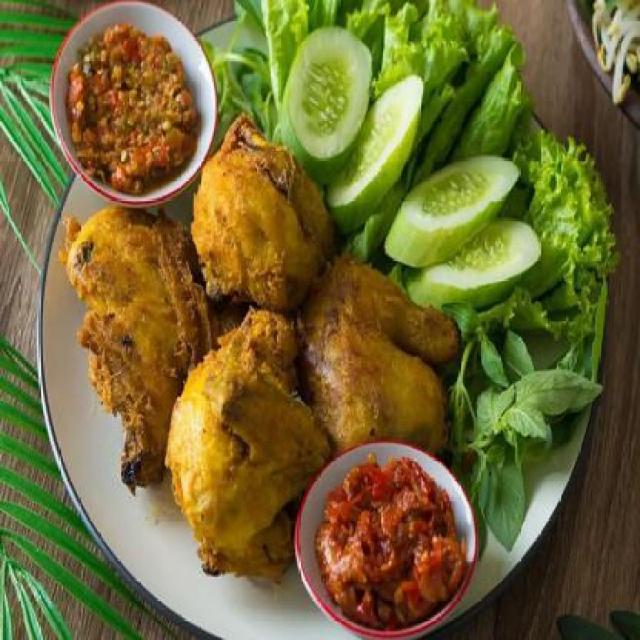Wet Waste: (172, 311, 328, 586), (66, 205, 206, 484), (308, 268, 460, 457), (189, 117, 331, 309)
